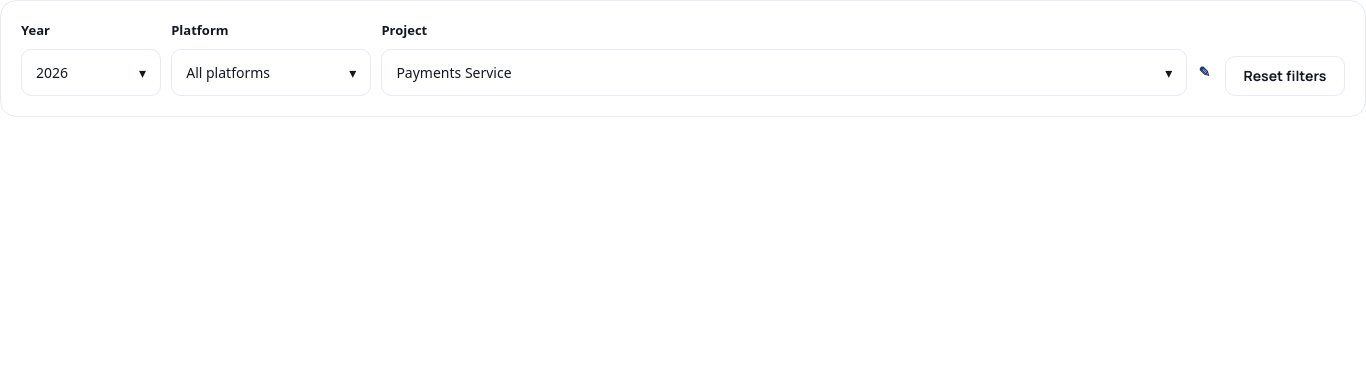
coordinator can rename and add projects
Expected: the button named "rename payments service" is shown, [1194, 48, 1215, 96]
Click the button with aria-label "Project" at (454, 72), box [381, 48, 1187, 96]
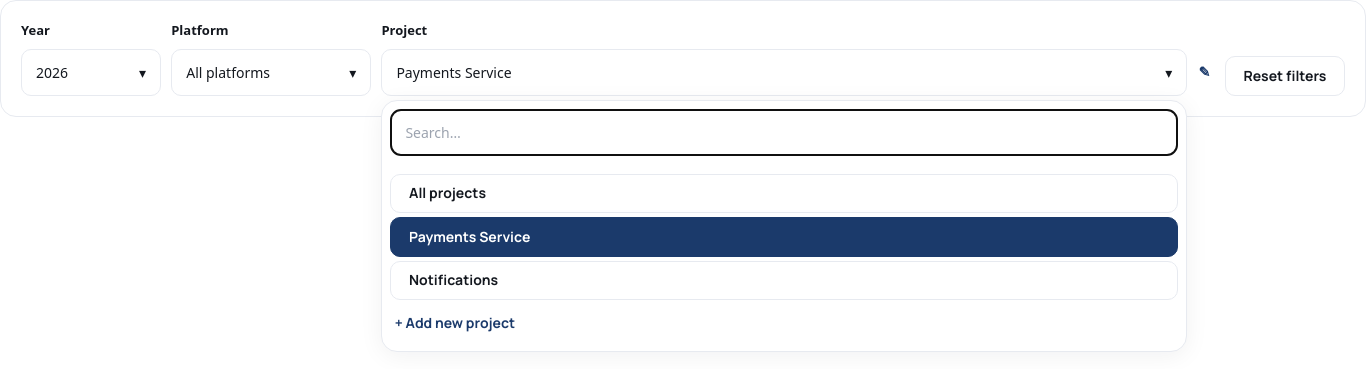
Expected: the button "+ Add new project" is shown, [390, 304, 1178, 343]
